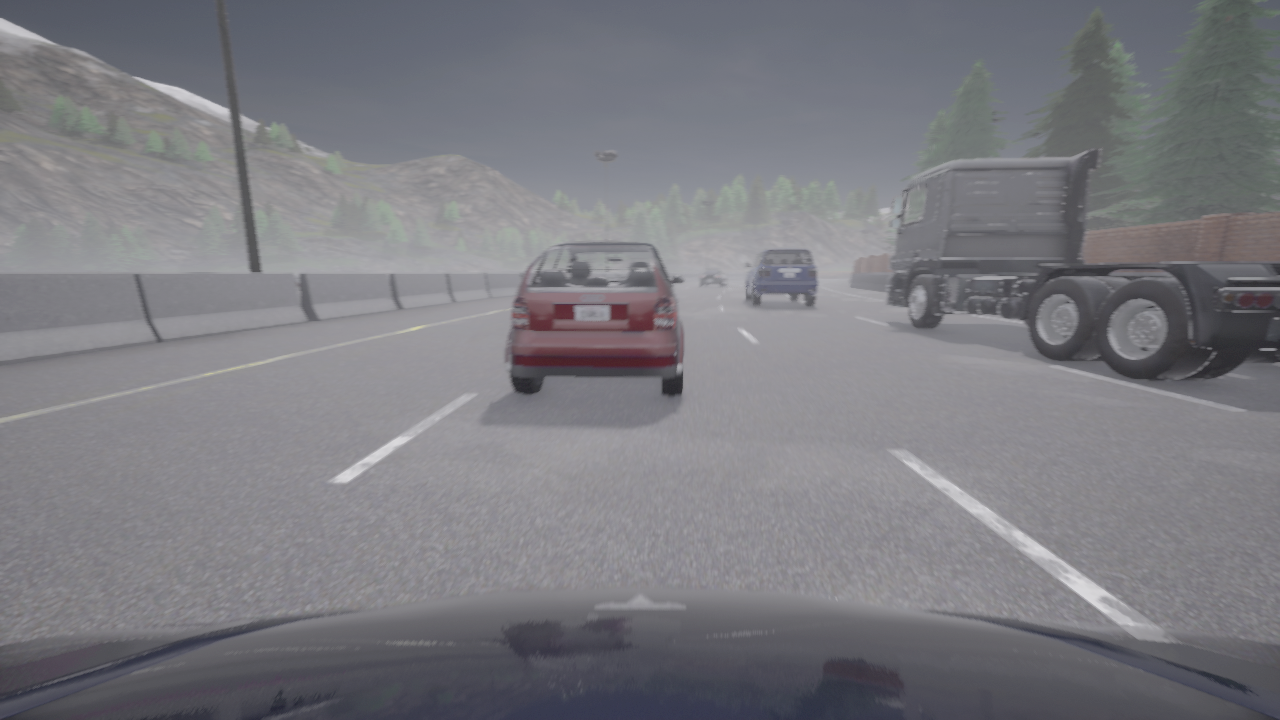cyclist: (0, 588, 1279, 719), (885, 149, 1279, 380), (505, 242, 684, 396), (744, 248, 817, 306), (698, 269, 727, 287)
